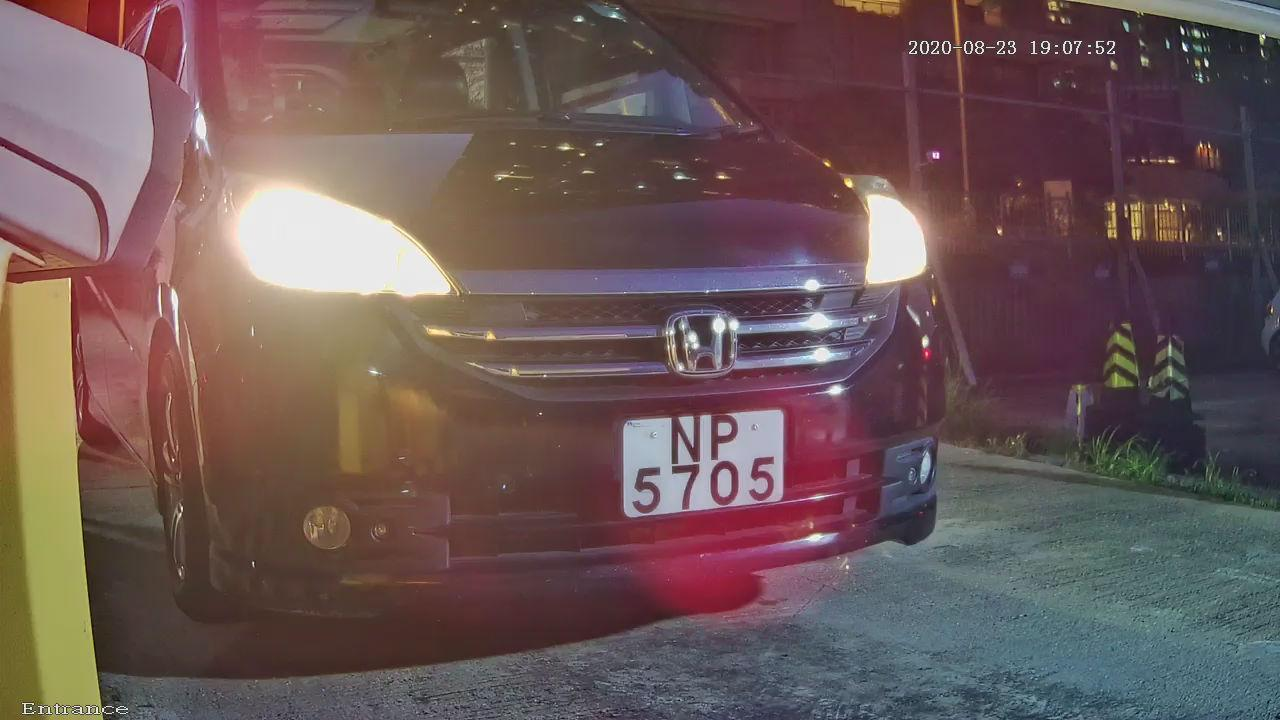Car: (46, 10, 1075, 682)
License Plate: (596, 392, 808, 536)
